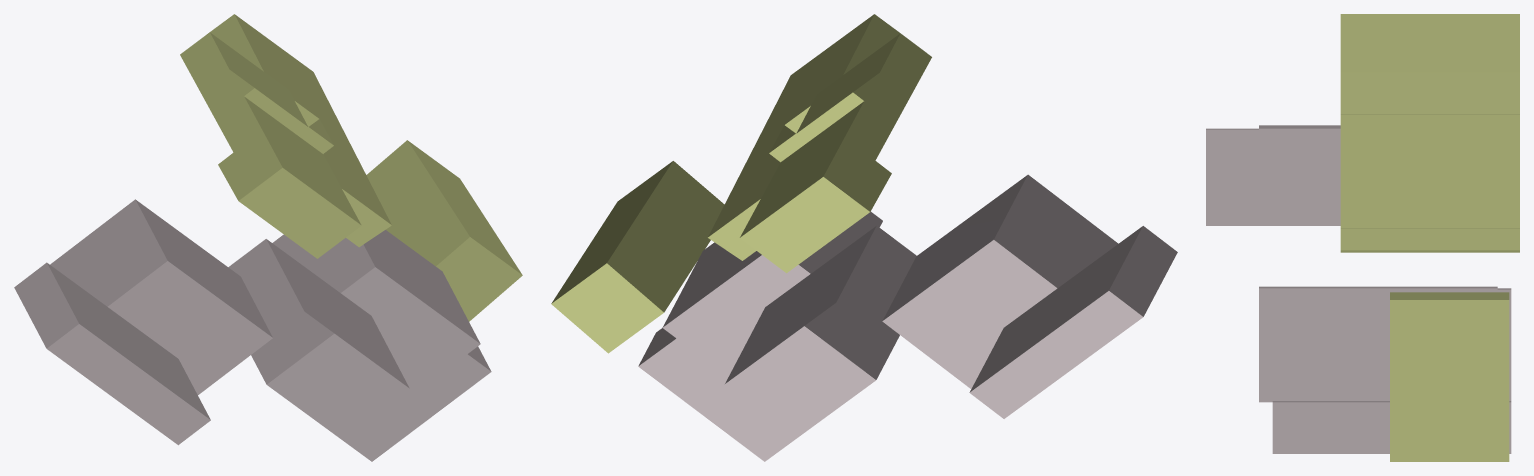
3 views of the same model, side by side, from view 1: azimuth 30°, elevation 25°; view 2: azimuth 150°, elevation 25°; view 3: azimuth 270°, elevation 25° (orthographic). The views are drawn at different scales.
Visible parts, largest first — view 1: 0_1_1_3_2_2_3_0_1_2; view 2: 0_1_1_3_2_2_3_0_1_2; view 3: 0_1_1_3_2_2_3_0_1_2.
Part boxes in pixels (<box>): 0_1_1_3_2_2_3_0_1_2: <box>14,14,522,461</box>; 0_1_1_3_2_2_3_0_1_2: <box>551,14,1177,461</box>; 0_1_1_3_2_2_3_0_1_2: <box>1206,14,1519,461</box>.
Bounding box in the file's own units: 30.1 × 23.54 × 15.77.
